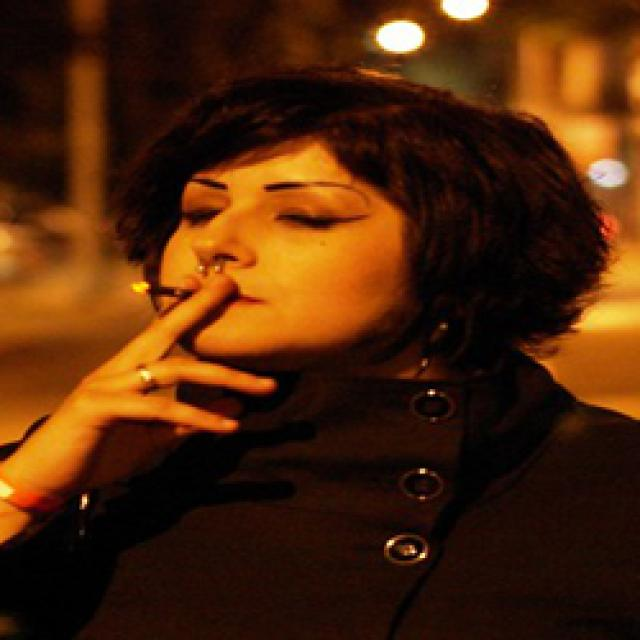Smooking: (136, 272, 193, 304)
